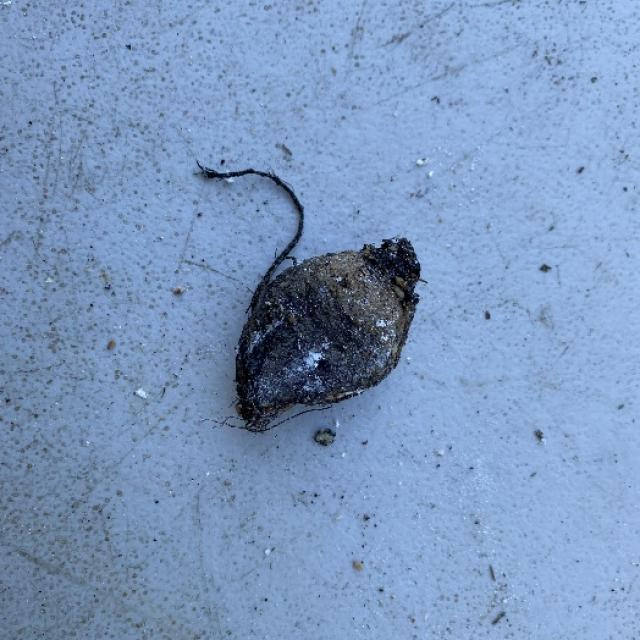organik: (232, 241, 421, 426)
